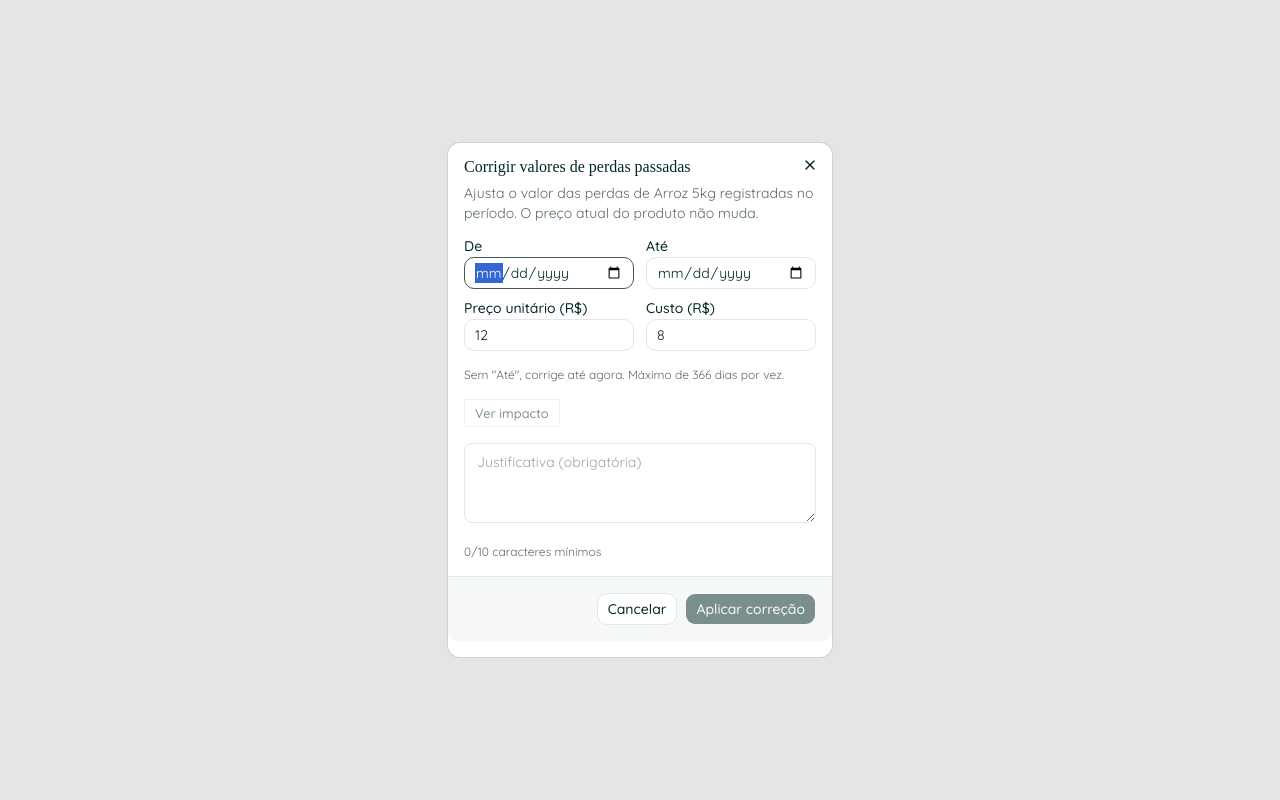
RetroFixDialog › mudar o preço depois da prévia exige ver o impacto de novo
Type "2026-09-01" into the date field labelled "De". click: (549, 273)
box: [464,257,634,289]
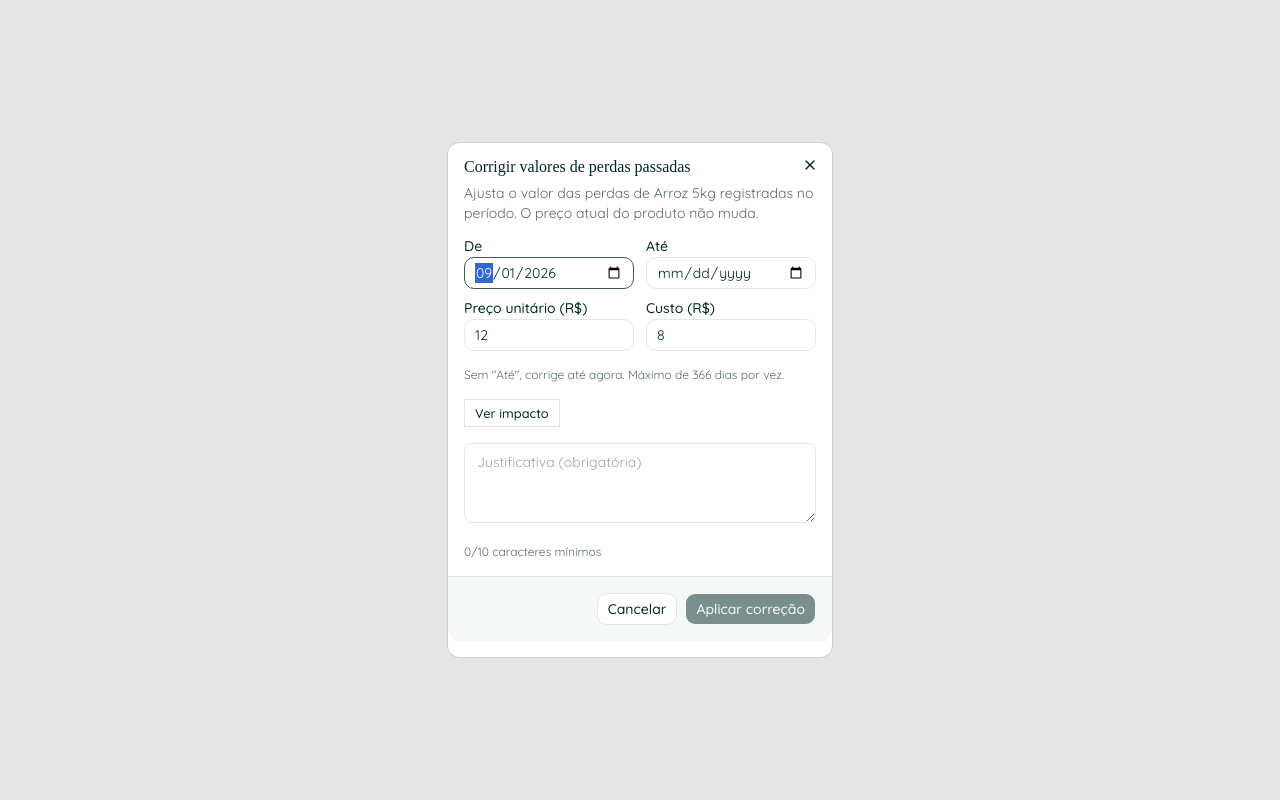
Type "2026-09-20" into the date field labelled "Até". click: (731, 273)
box: [646,257,816,289]
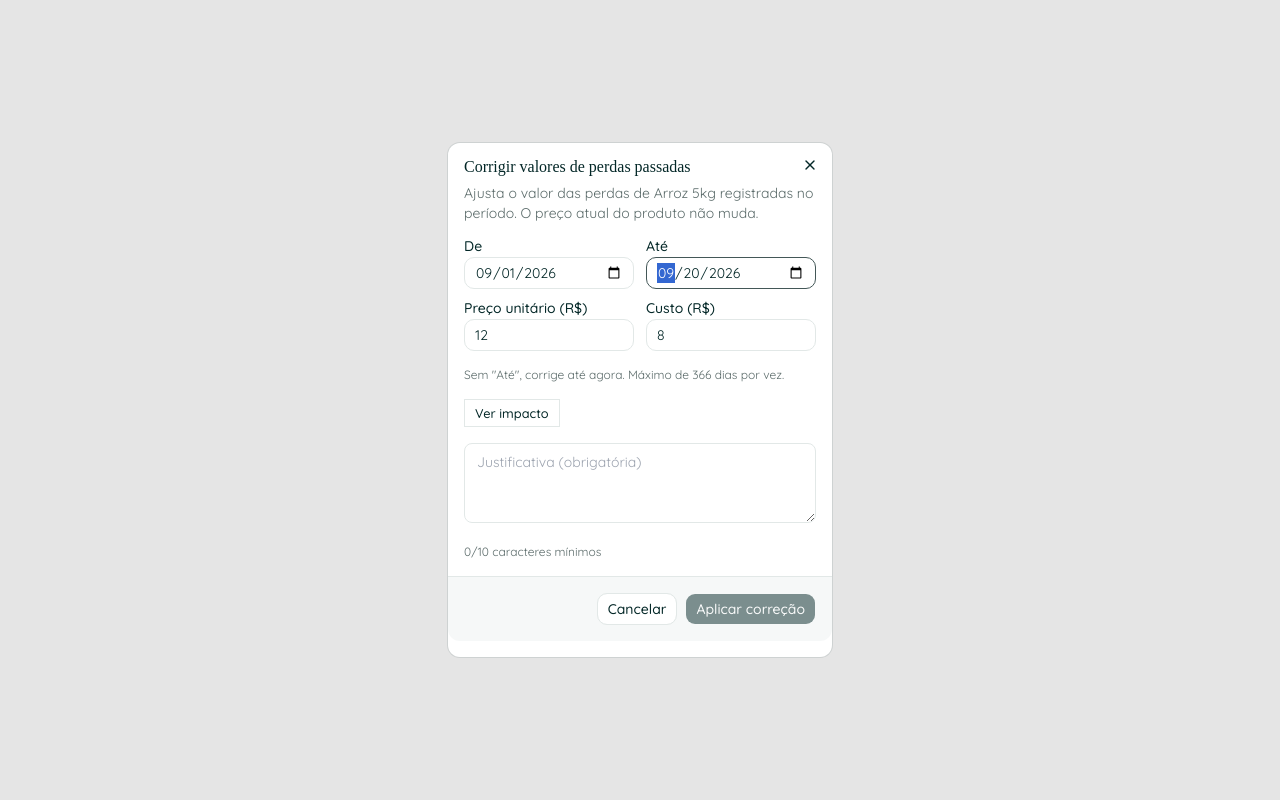
Click the button "Ver impacto". click: (512, 413)
box: [464,399,560,427]
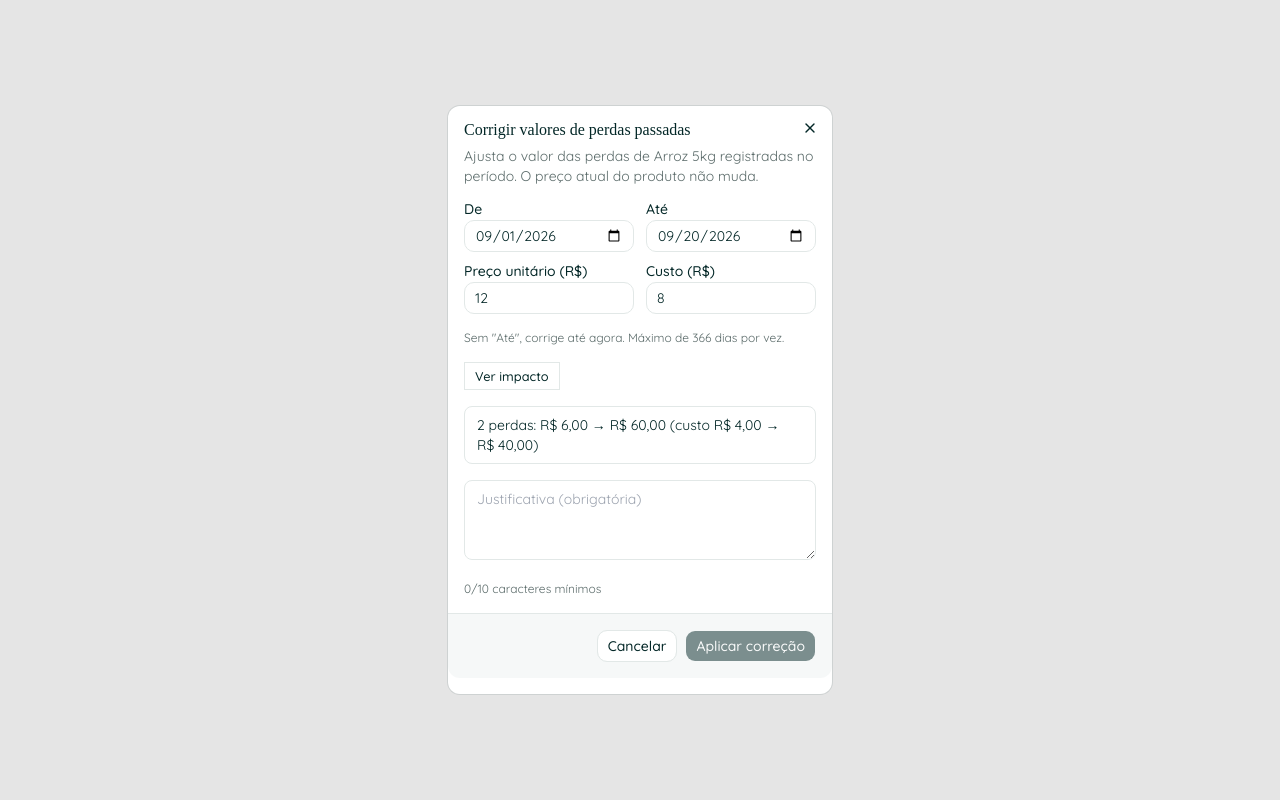
Expected: the text "2 perdas: R$ 6,00 → R$ 60,00 (custo R$ 4,00 → R$ 40,00)" is shown, [464,406,816,464]
Type "Preço digitado errado" into the text box labelled "Justificativa". click: (640, 520)
box: [464,480,816,560]
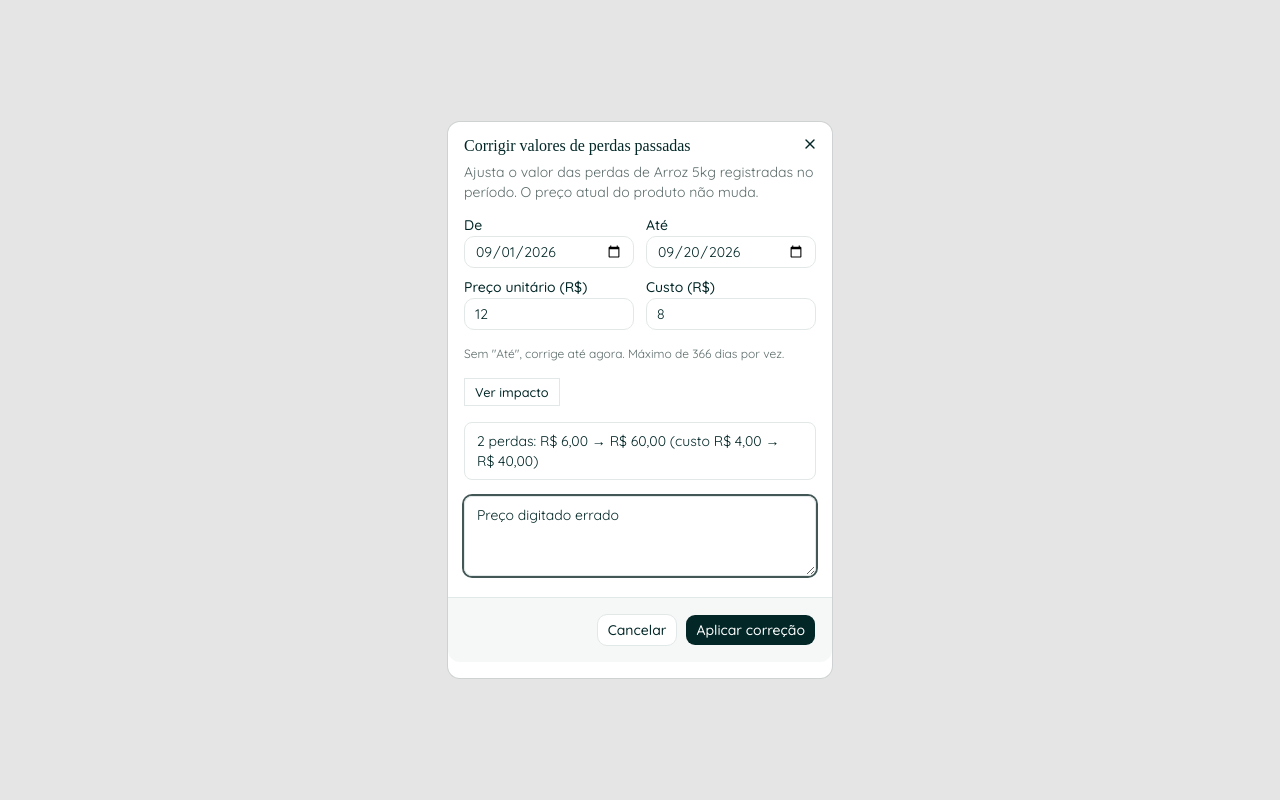
Expected: the button "Aplicar correção" is enabled, [685,614,816,646]
Type "5" into the number field labelled "Preço unitário (R$)". click: (549, 314)
box: [464,298,634,330]
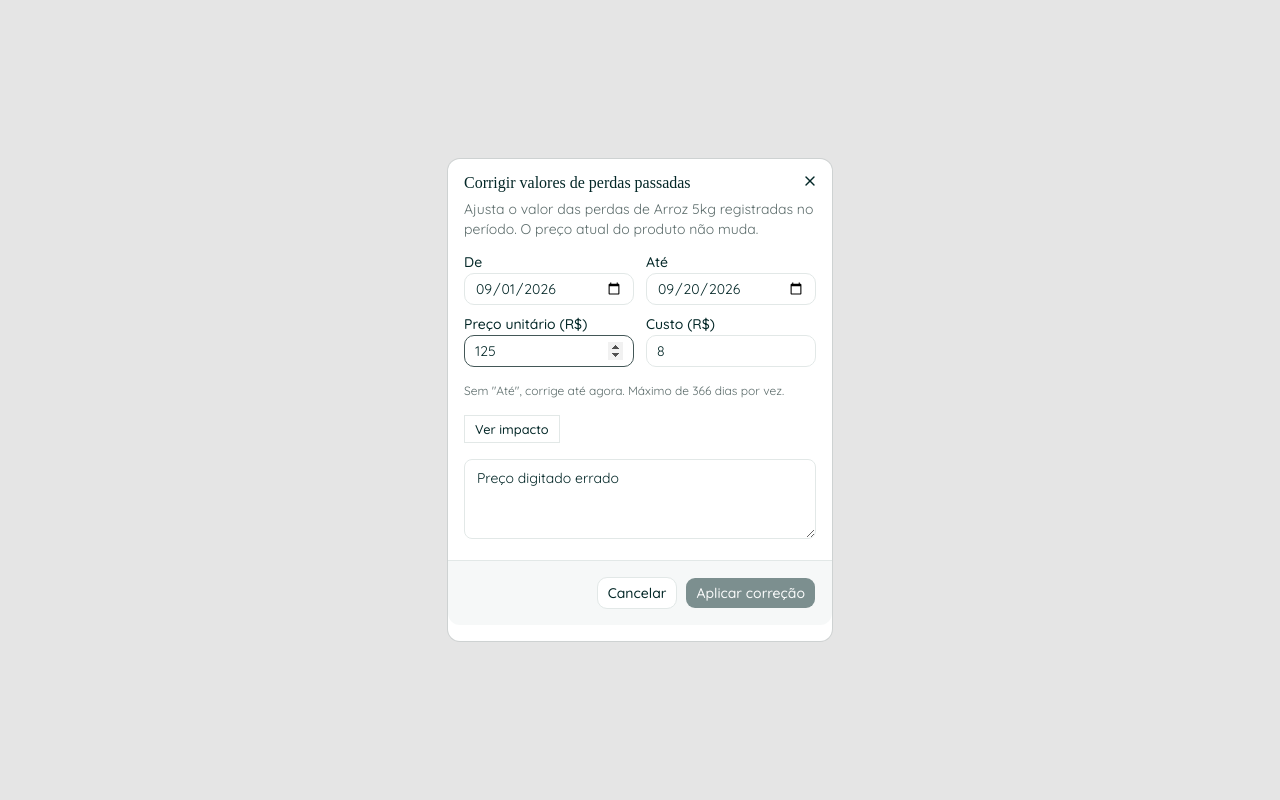
Expected: the button "Aplicar correção" is disabled, [685,577,816,609]
Expected: the text "2 perdas" is gone
